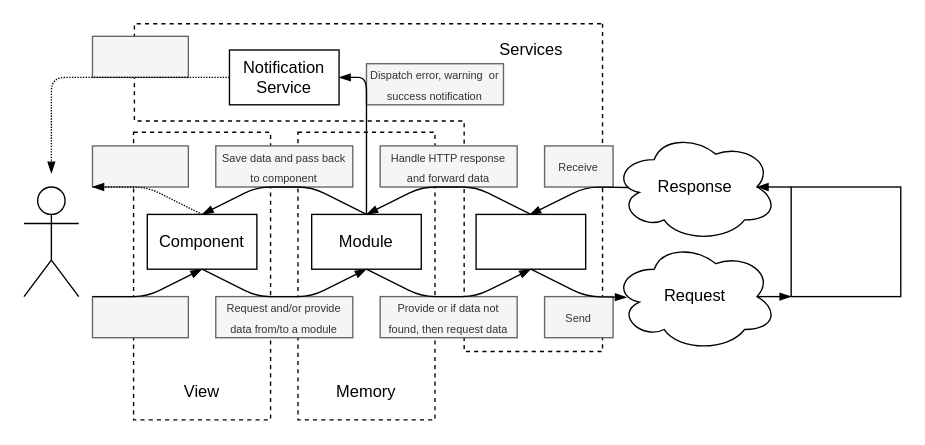
Some shapes in this 925 by 445 pixel diagram are drawn without their labels. Here are the shapes that lost their labels. From the top down, the centre of each, then its label:
(139,56): Feedback
(139,166): Observed change in the UI
(51,241): User
(530,241): API Service
(845,241): Backend API
(139,316): Page load or user action
